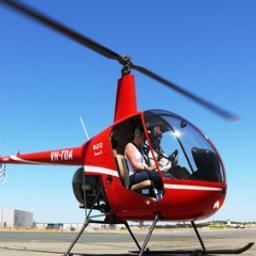helicopter: (6, 18, 249, 256)
